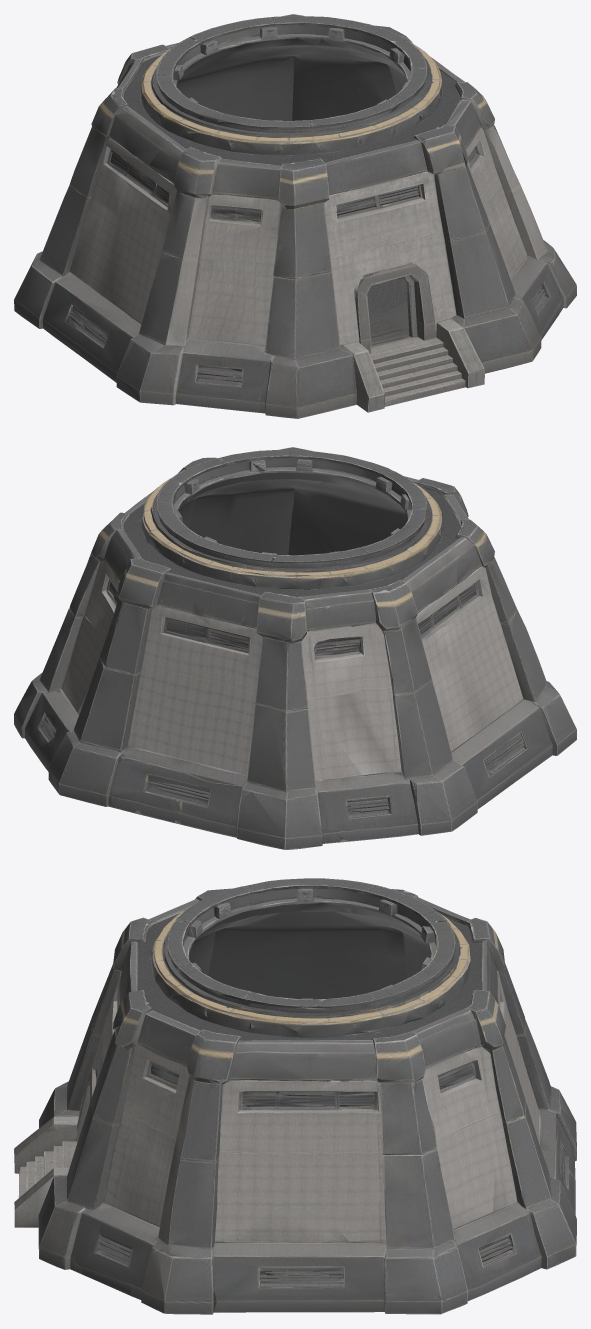
The model's file is imperial_defence_battery_lod1.glb.
The picture shows the model from 3 angles, top to bottom: view 1: azimuth 30°, elevation 25°; view 2: azimuth 150°, elevation 25°; view 3: azimuth 270°, elevation 25°; orthographic projection. The views are drawn at different scales.
Parts seen in each view (by area): view 1: mesh_node; view 2: mesh_node; view 3: mesh_node.
Part boxes in pixels (left/top/right/bottom): mesh_node: left=14, top=14, right=576, bottom=418; mesh_node: left=14, top=447, right=576, bottom=849; mesh_node: left=14, top=878, right=576, bottom=1314.
Size of the model in its own units: 21.94 by 10.95 by 21.94.
Materials: 1 (1 with a texture image).
